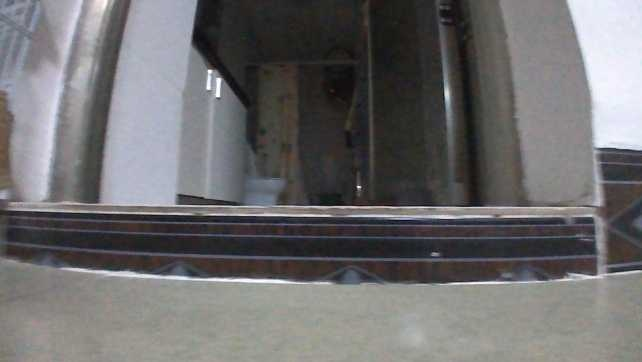door_anno_part: (2, 204, 601, 286)
toilet: (245, 173, 285, 204)
